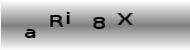8: (91, 16, 107, 29)
R: (48, 14, 65, 28)
X: (117, 12, 134, 26)
a: (25, 28, 38, 40)
i: (65, 10, 71, 24)
